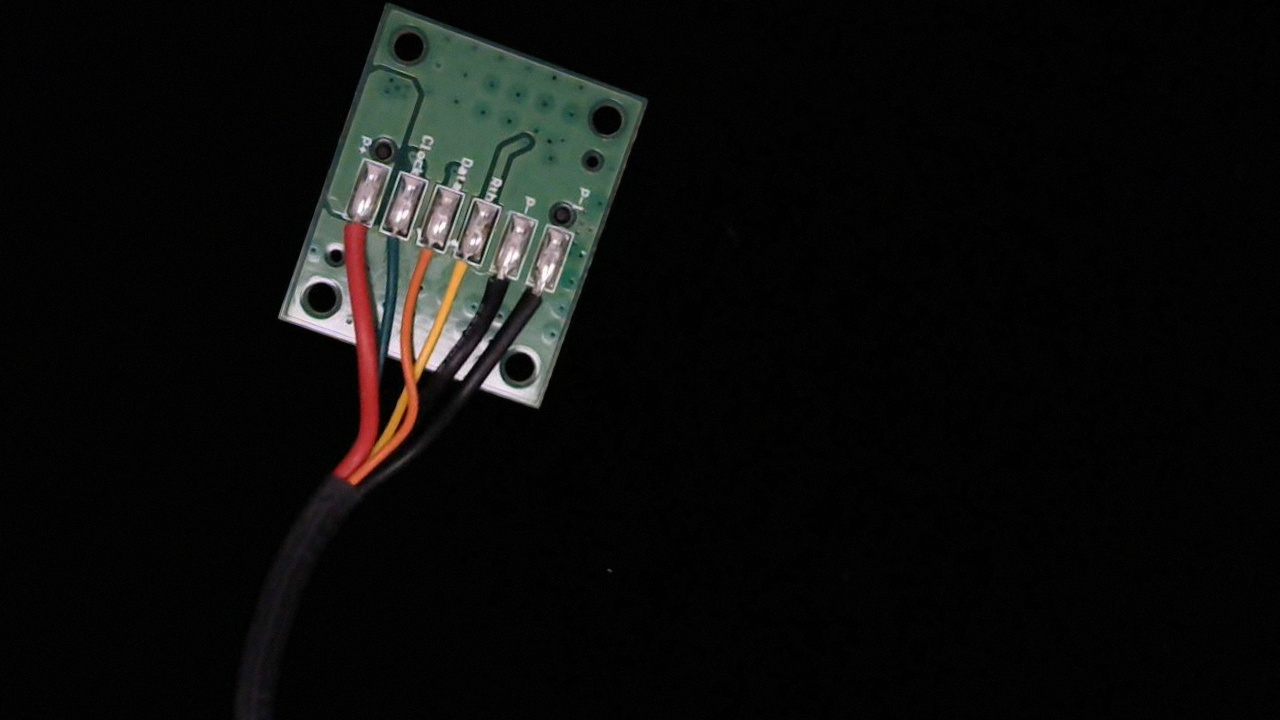Black: (473, 256, 523, 322)
Black1: (516, 267, 560, 325)
Green: (368, 219, 413, 275)
Orange: (402, 230, 449, 301)
Red: (330, 206, 376, 271)
Yellow: (433, 238, 483, 315)
